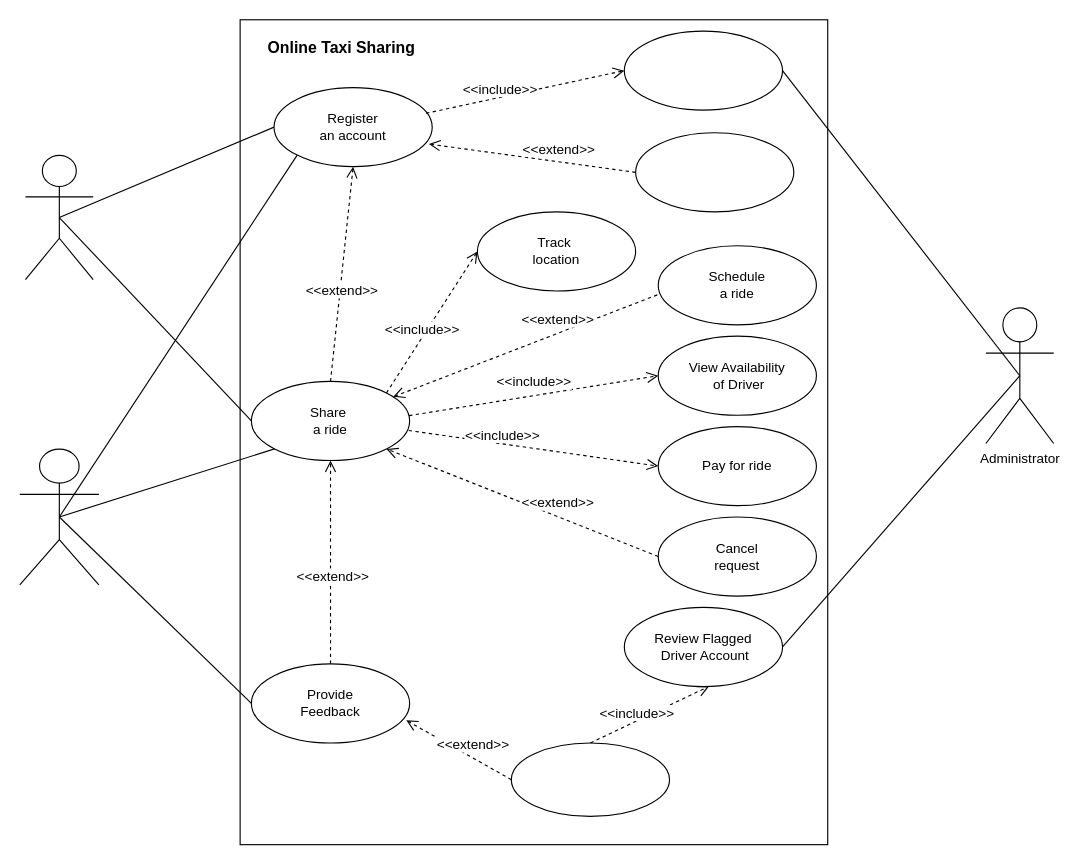
Some shapes in this 1079 by 864 pixel diagram are drawn without their labels. The shapes that lost their labels are listed below. From the top down, each one's centre as x and y in pixels, then its label:
At (x=703, y=70): "Identify the account".
At (x=714, y=172): "Manage the account".
At (x=58, y=217): "Driver".
At (x=59, y=516): "Passenger".
At (x=590, y=779): "Report driver".
